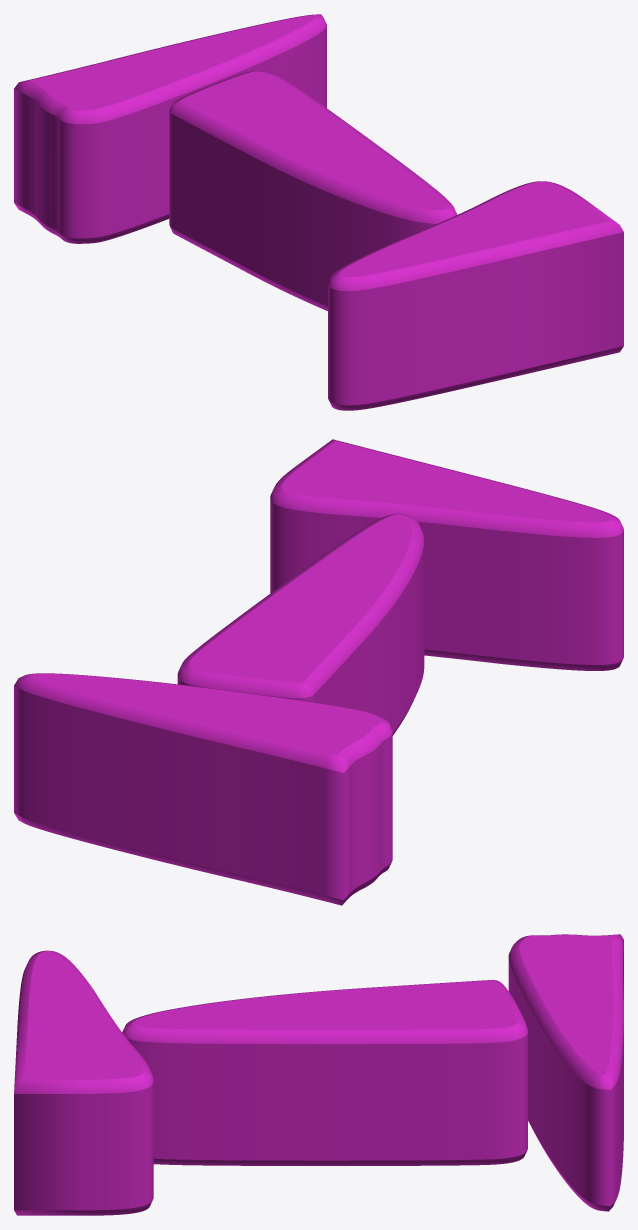
The model's file is Letter_I.fbx.
3 views of the same model, one above another, from view 1: azimuth 30°, elevation 25°; view 2: azimuth 150°, elevation 25°; view 3: azimuth 270°, elevation 25° (orthographic). The views are drawn at different scales.
Visible parts, largest first — view 1: Letter_I; view 2: Letter_I; view 3: Letter_I.
Boxes of the visible parts, bbox=[...] form: Letter_I: bbox=[14, 14, 623, 410]; Letter_I: bbox=[14, 439, 623, 905]; Letter_I: bbox=[14, 934, 623, 1215].
Size of the model in its own units: 0.3416 by 0.14 by 0.5704.
